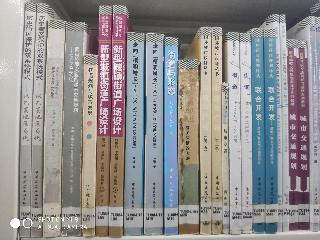book-spine: (43, 21, 65, 238), (62, 22, 84, 235), (124, 33, 143, 234), (145, 35, 164, 234), (20, 4, 36, 237), (32, 4, 47, 238), (110, 6, 125, 236), (97, 6, 111, 236), (180, 61, 198, 234), (263, 29, 277, 233), (228, 33, 241, 234), (307, 17, 319, 231), (252, 30, 264, 232), (240, 34, 252, 233), (165, 38, 177, 235), (83, 56, 96, 237), (287, 39, 298, 230), (297, 41, 308, 229), (202, 27, 211, 234), (274, 15, 282, 232), (280, 15, 288, 231), (213, 28, 221, 233), (222, 84, 229, 233)
